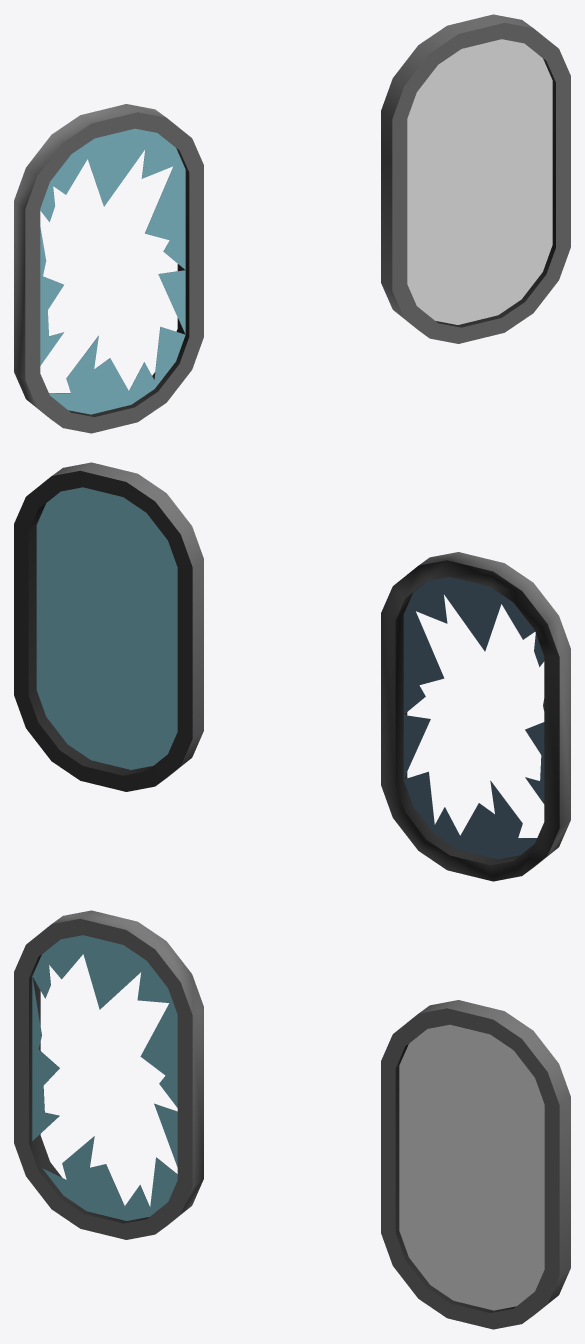
Rendered from Mirror.fbx.
The picture shows the model from 3 angles, top to bottom: view 1: azimuth 30°, elevation 25°; view 2: azimuth 150°, elevation 25°; view 3: azimuth 330°, elevation 25°; orthographic projection.
Visible parts, largest first — view 1: Mirror, MirrorBroken; view 2: Mirror, MirrorBroken; view 3: Mirror, MirrorBroken.
Part boxes in pixels (box(x1,y1,x2,y2)): Mirror: box(381, 14, 570, 343); MirrorBroken: box(14, 104, 203, 433); Mirror: box(14, 462, 203, 791); MirrorBroken: box(381, 552, 570, 881); Mirror: box(381, 1000, 570, 1329); MirrorBroken: box(14, 910, 203, 1239).
Bounding box in the file's own units: 1.49 × 0.8076 × 0.0549.
